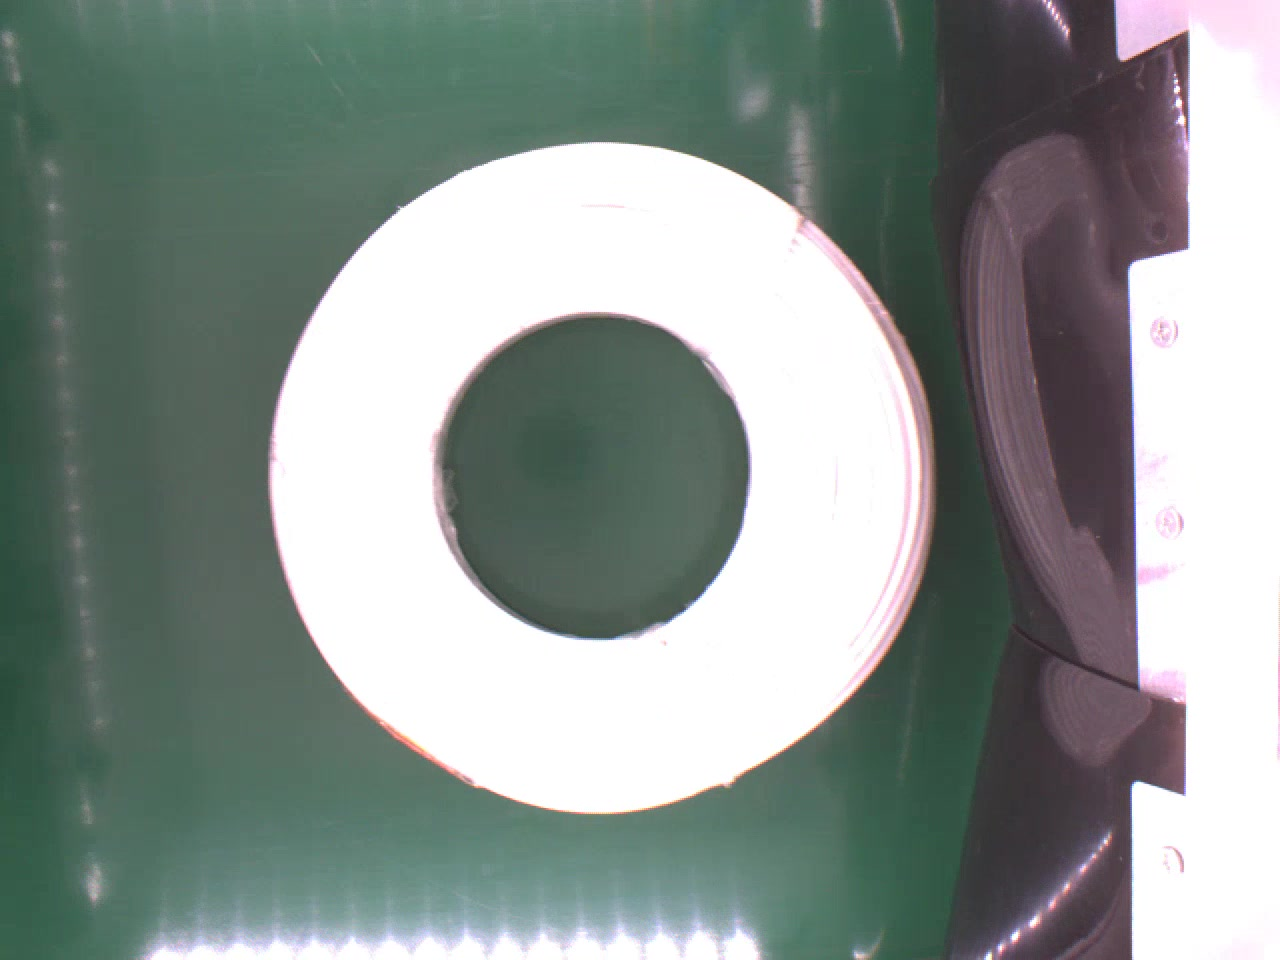white: (261, 131, 941, 819)
